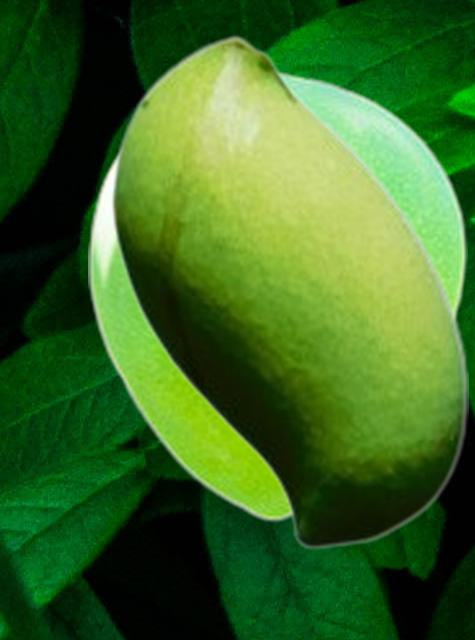green_mango: (109, 33, 467, 549), (88, 70, 466, 522)
